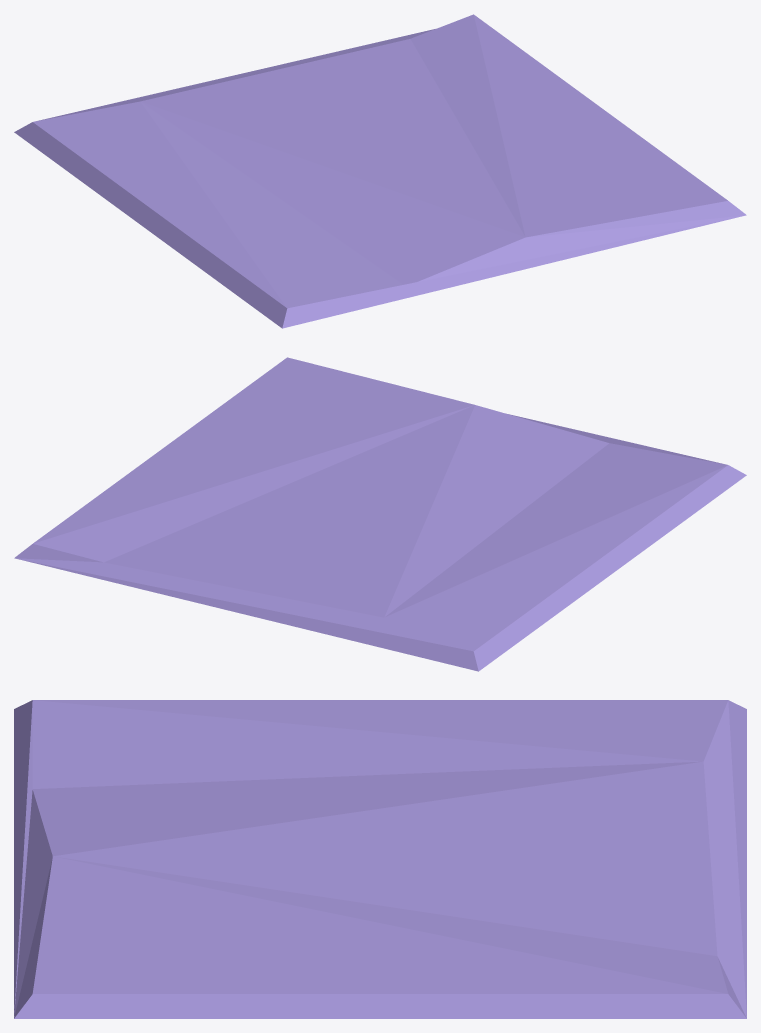
The model's file is Fliese02.FBX.
The picture shows the model from 3 angles, top to bottom: view 1: azimuth 30°, elevation 25°; view 2: azimuth 150°, elevation 25°; view 3: azimuth 270°, elevation 25°; orthographic projection. The views are drawn at different scales.
Visible parts, largest first — view 1: Gehweg_02; view 2: Gehweg_02; view 3: Gehweg_02.
Boxes of the visible parts, x1,y1,x2,y2 form: Gehweg_02: (14,14,746,328); Gehweg_02: (14,357,746,671); Gehweg_02: (14,700,746,1018).
Size of the model in its own units: 39.37 by 1.45 by 39.37.
